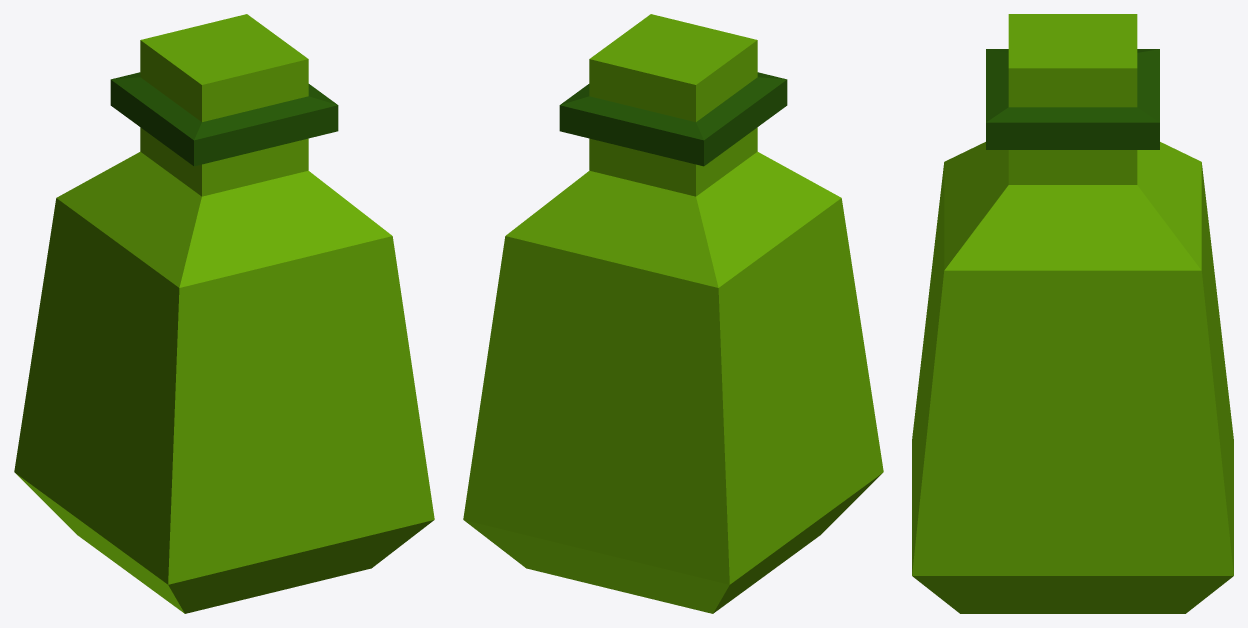
The model's file is Ghost.fbx.
The picture shows the model from 3 angles, left to right: view 1: azimuth 30°, elevation 25°; view 2: azimuth 150°, elevation 25°; view 3: azimuth 270°, elevation 25°; orthographic projection. The views are drawn at different scales.
Visible parts, largest first — view 1: Ghost_Portion; view 2: Ghost_Portion; view 3: Ghost_Portion.
Boxes of the visible parts, left/top/right/bottom form: Ghost_Portion: left=14, top=14, right=434, bottom=613; Ghost_Portion: left=463, top=14, right=883, bottom=613; Ghost_Portion: left=912, top=14, right=1233, bottom=613.
Size of the model in its own units: 170 by 306 by 170.
